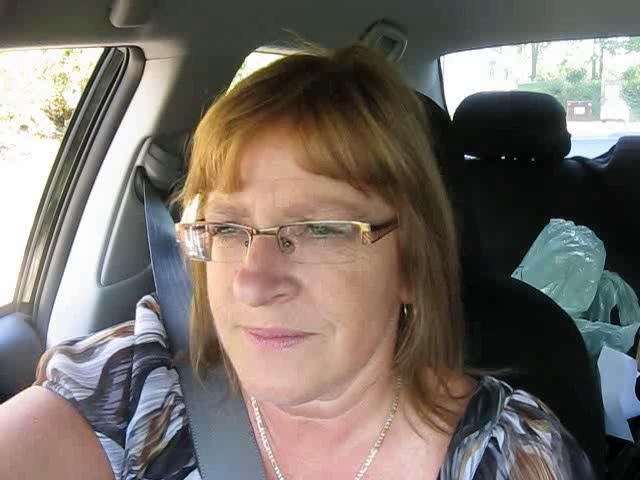close_eyeL: (201, 211, 259, 254)
close_eyeR: (277, 213, 371, 260)
no_yawn: (219, 317, 326, 364)
